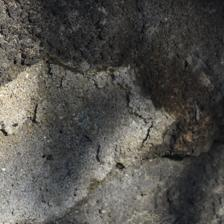Crack: (39, 86, 149, 134), (65, 32, 147, 81)
